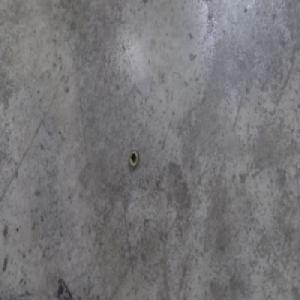Nut: (128, 147, 140, 168)
